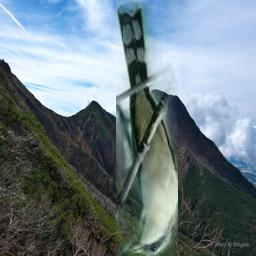Cuckoo: (116, 0, 178, 256)
